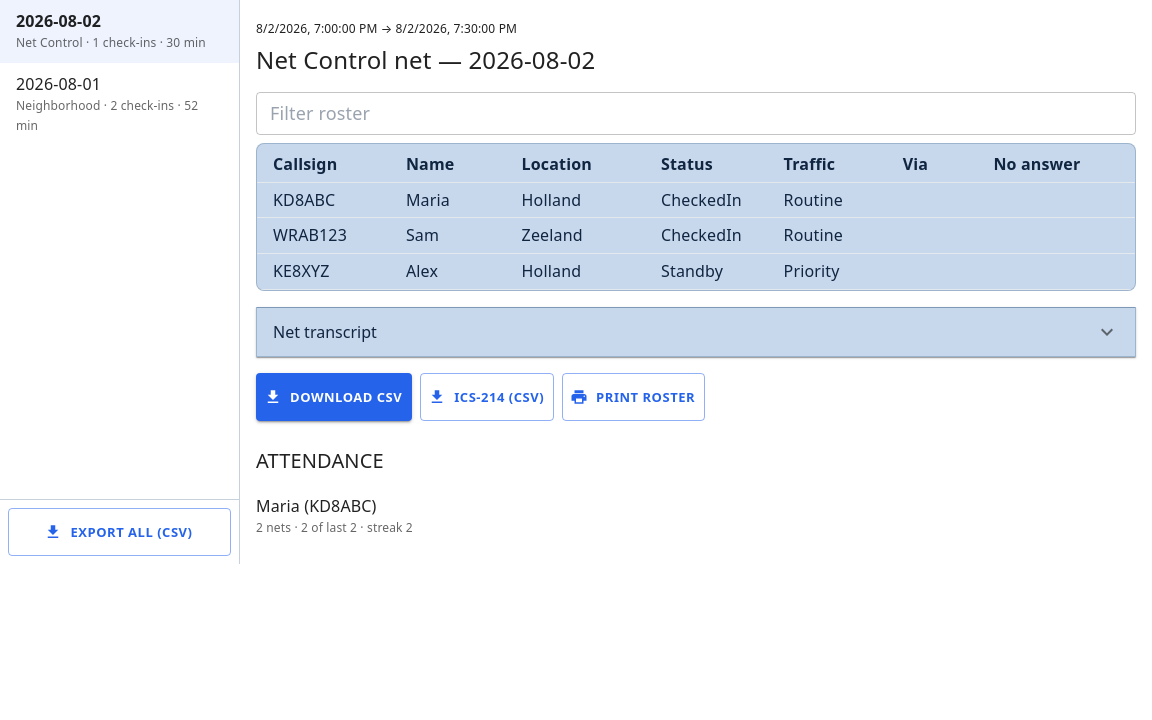
Test: PastNetsTab › hides non-matching rows when a callsign is typed into the roster filter
Type "KE8XYZ" into the field labelled "Filter roster" at x=696, y=113, box [256, 92, 1136, 135]
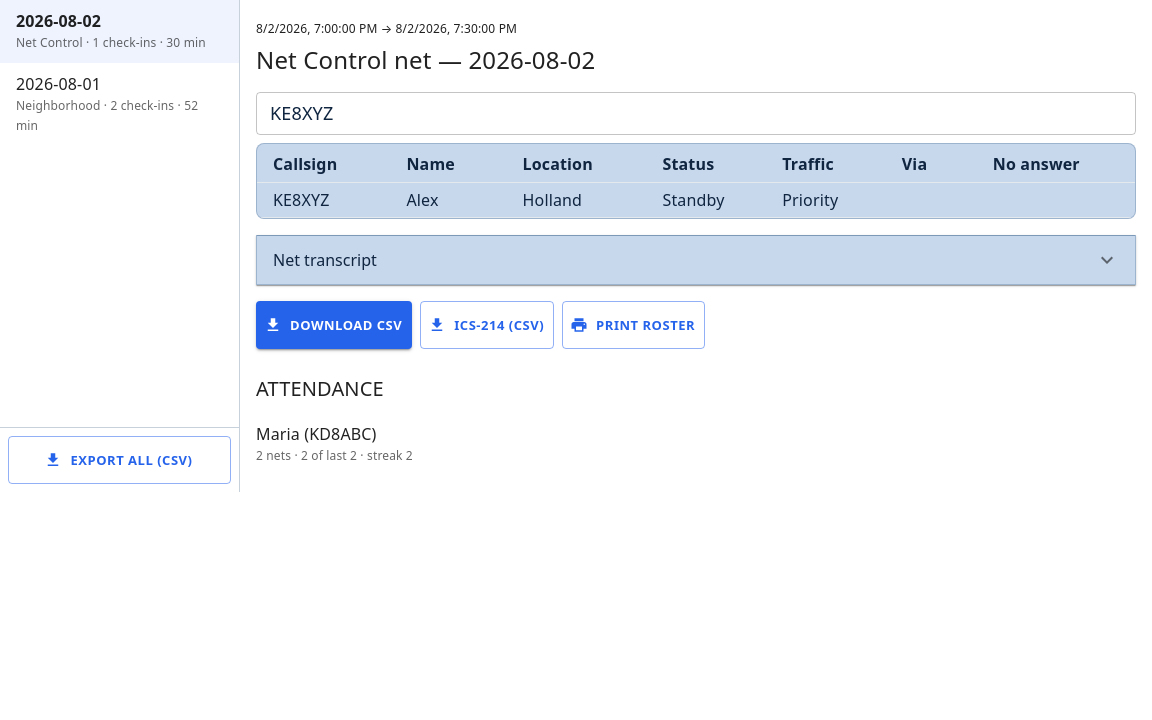
Expected: the text "KE8XYZ" is shown, [257, 182, 390, 218]
Expected: the text "WRAB123" is gone
